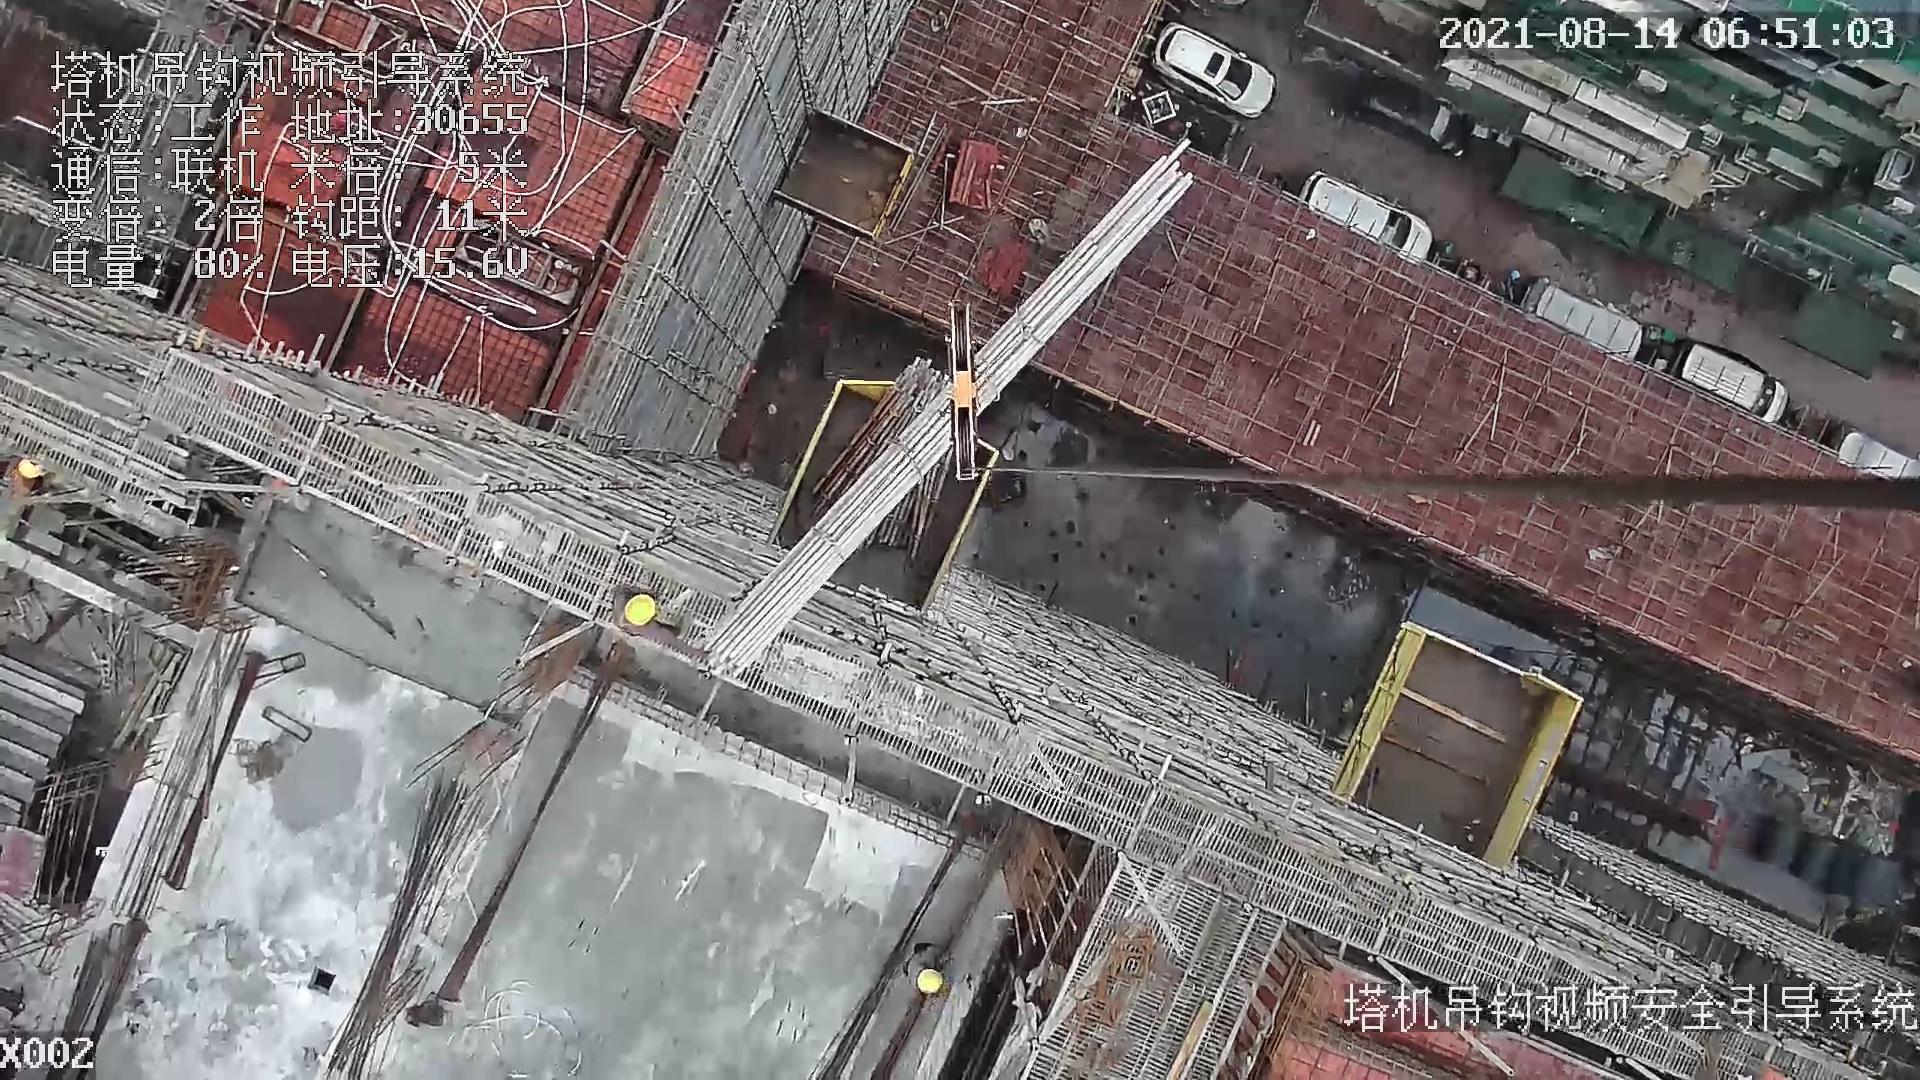helmet: (913, 952, 959, 998), (620, 593, 665, 623), (20, 454, 56, 485)
person: (605, 581, 683, 644), (1, 447, 60, 506), (901, 941, 955, 1003)
